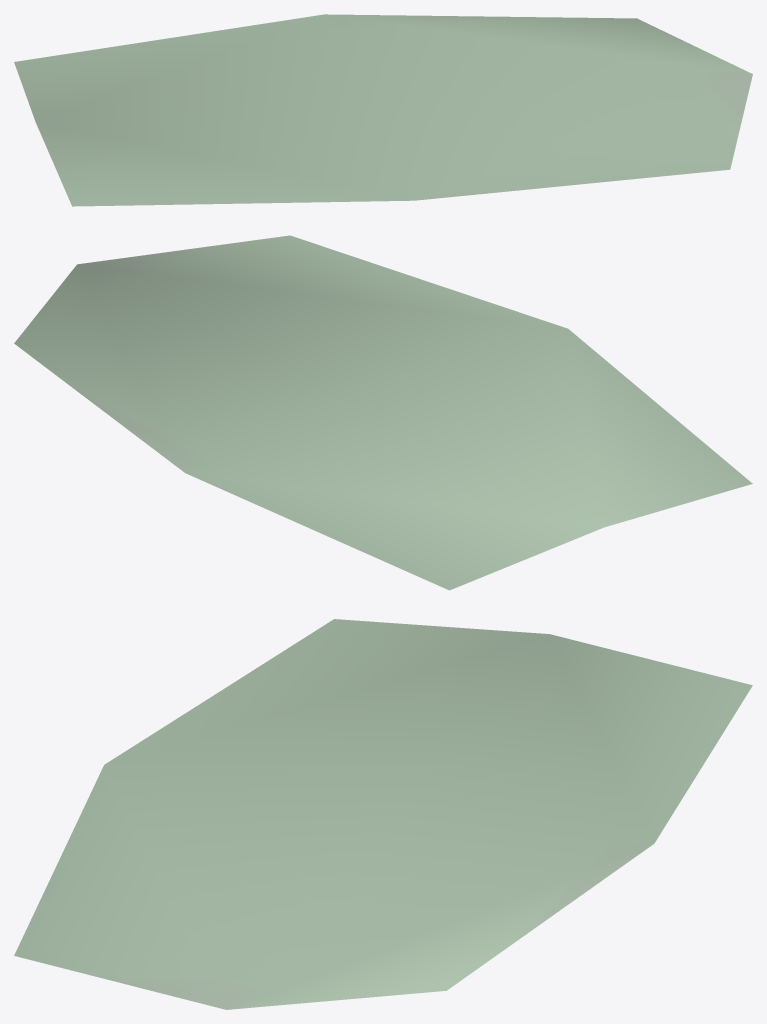
File: TROLLHOLE02_HOLECAP150.fbx
3 renders of one model, top to bottom at view 1: azimuth 30°, elevation 25°; view 2: azimuth 150°, elevation 25°; view 3: azimuth 270°, elevation 25°, orthographic. The views are drawn at different scales.
Visible parts, largest first — view 1: TROLLHOLE02_HOLECAP150; view 2: TROLLHOLE02_HOLECAP150; view 3: TROLLHOLE02_HOLECAP150.
Boxes of the visible parts, box(x1,y1,x2,y2) form: TROLLHOLE02_HOLECAP150: box(14, 14, 752, 206); TROLLHOLE02_HOLECAP150: box(14, 235, 752, 590); TROLLHOLE02_HOLECAP150: box(14, 619, 752, 1009).
Bounding box in the file's own units: 48436 × 972 × 37796.
1 material, 1 textured.
